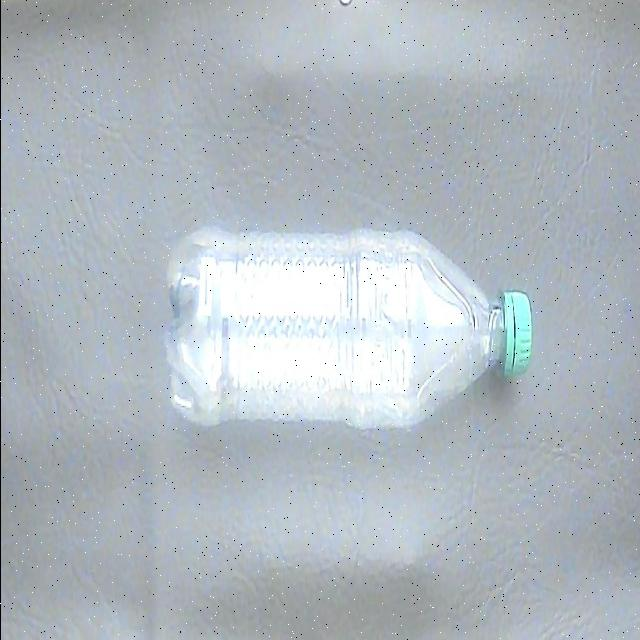plastic: (162, 218, 534, 438)
